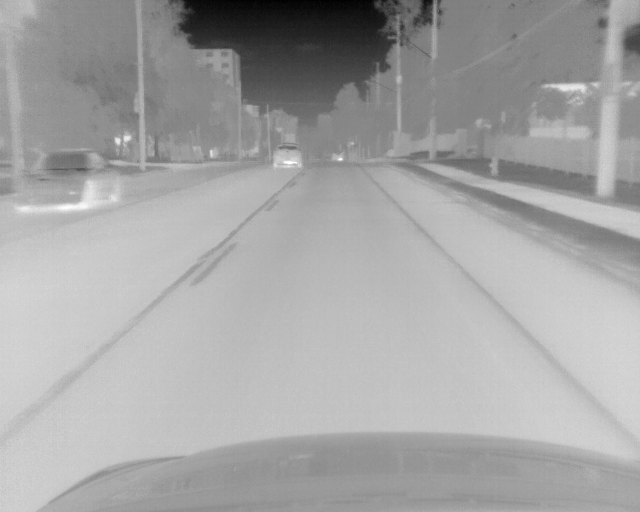car: (13, 147, 124, 210), (271, 143, 304, 171), (330, 151, 345, 164)
